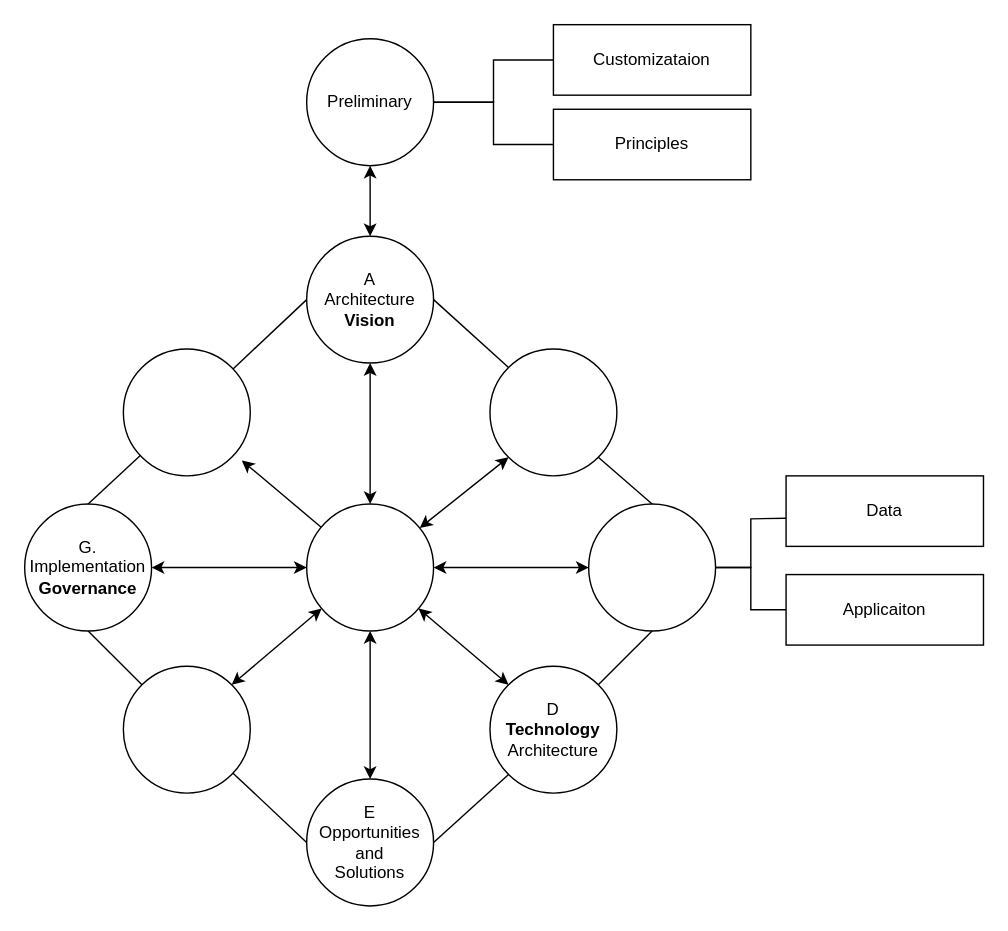
The diagram is 1008 pixels wide and 931 high, and some of its shapes have lost their labels. The centre of each missing label's shape, as x and y in pixels:
B Business Architecture: (553,412)
C Information Systems Architecture: (651,567)
F. Miguration Planning: (186,729)
H. Architecture Change Management: (186,412)
Requirement Management: (369,567)
